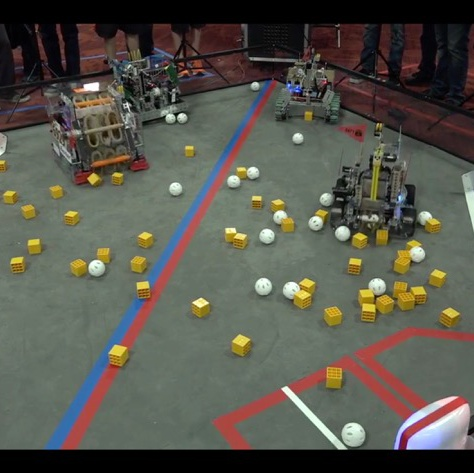robot: (326, 119, 423, 238), (40, 82, 150, 185), (103, 45, 194, 126), (272, 50, 341, 122)
